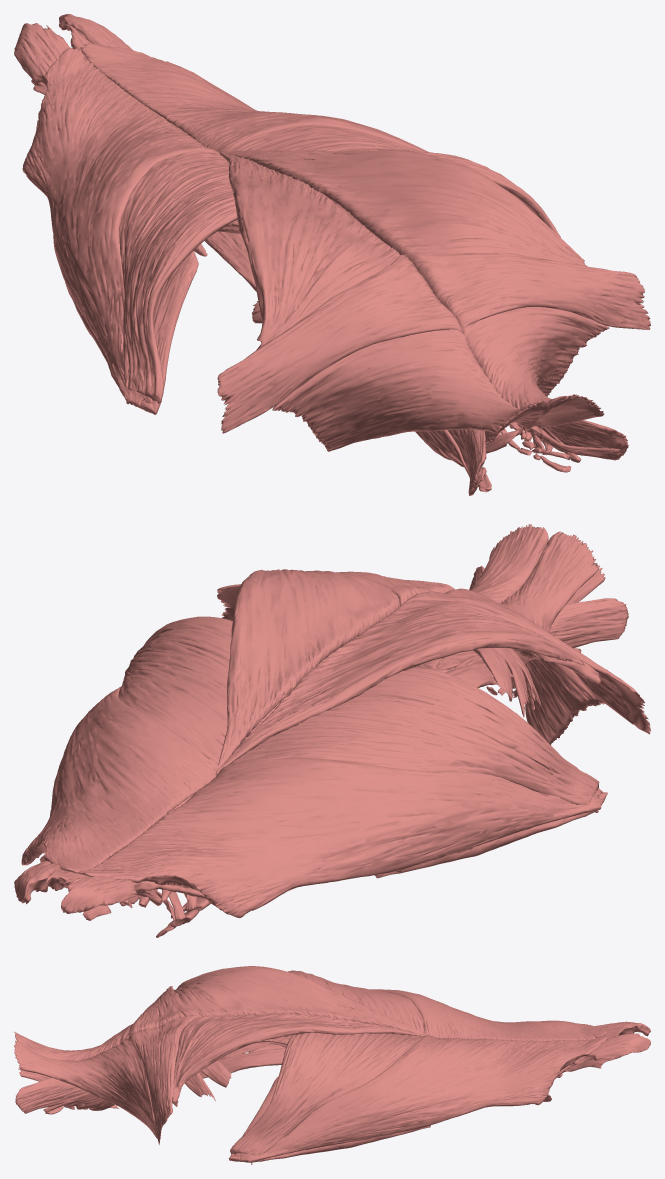
The model's file is back__muscular.4c2771786a.glb.
The picture shows the model from 3 angles, top to bottom: view 1: azimuth 30°, elevation 25°; view 2: azimuth 150°, elevation 25°; view 3: azimuth 270°, elevation 25°; orthographic projection. The views are drawn at different scales.
Parts seen in each view (by area): view 1: FMA13358, FMA33583, FMA33586, FMA33581, FMA33584, FMA13359, FMA33585, FMA33587, FMA22740, FMA22729, FMA22742, FMA22728 (+4 smaller); view 2: FMA13358, FMA13359, FMA33583, FMA33581, FMA33586, FMA33584, FMA33587, FMA22728, FMA22740, FMA13403, FMA33585, FMA22741 (+2 smaller); view 3: FMA13359, FMA33581, FMA13358, FMA33583, FMA33587, FMA33585, FMA22729, FMA33584, FMA33586, FMA22741, FMA22743, FMA13404 (+4 smaller).
Part boxes in pixels (left/top/right/bottom): FMA13358: left=22, top=47, right=237, bottom=414; FMA33583: left=220, top=149, right=587, bottom=266; FMA33586: left=272, top=329, right=548, bottom=451; FMA33581: left=219, top=151, right=400, bottom=350; FMA33584: left=217, top=254, right=462, bottom=433; FMA13359: left=80, top=43, right=560, bottom=237; FMA33585: left=403, top=252, right=650, bottom=331; FMA33587: left=461, top=307, right=609, bottom=429; FMA22740: left=14, top=23, right=207, bottom=256; FMA22729: left=546, top=420, right=628, bottom=460; FMA22742: left=205, top=220, right=256, bottom=291; FMA22728: left=447, top=429, right=486, bottom=495; FMA13358: left=79, top=667, right=607, bottom=918; FMA13359: left=21, top=616, right=292, bottom=873; FMA33583: left=216, top=569, right=399, bottom=774; FMA33581: left=215, top=599, right=601, bottom=775; FMA33586: left=499, top=531, right=604, bottom=744; FMA33584: left=399, top=588, right=650, bottom=734; FMA33587: left=471, top=524, right=548, bottom=603; FMA22728: left=549, top=598, right=628, bottom=648; FMA22740: left=61, top=876, right=216, bottom=913; FMA13403: left=473, top=648, right=541, bottom=716; FMA33585: left=217, top=571, right=454, bottom=620; FMA22741: left=14, top=855, right=64, bottom=904; FMA13359: left=228, top=1032, right=606, bottom=1164; FMA33581: left=174, top=966, right=427, bottom=1035; FMA13358: left=288, top=970, right=606, bottom=1041; FMA33583: left=172, top=1013, right=425, bottom=1103; FMA33587: left=14, top=1038, right=157, bottom=1138; FMA33585: left=129, top=1015, right=200, bottom=1144; FMA22729: left=15, top=1078, right=87, bottom=1113; FMA33584: left=128, top=986, right=200, bottom=1037; FMA33586: left=14, top=1024, right=132, bottom=1060; FMA22741: left=555, top=1033, right=650, bottom=1078; FMA22743: left=199, top=1048, right=285, bottom=1078; FMA13404: left=172, top=1060, right=231, bottom=1106.
Size of the model in its own units: 358 by 126 by 669.
